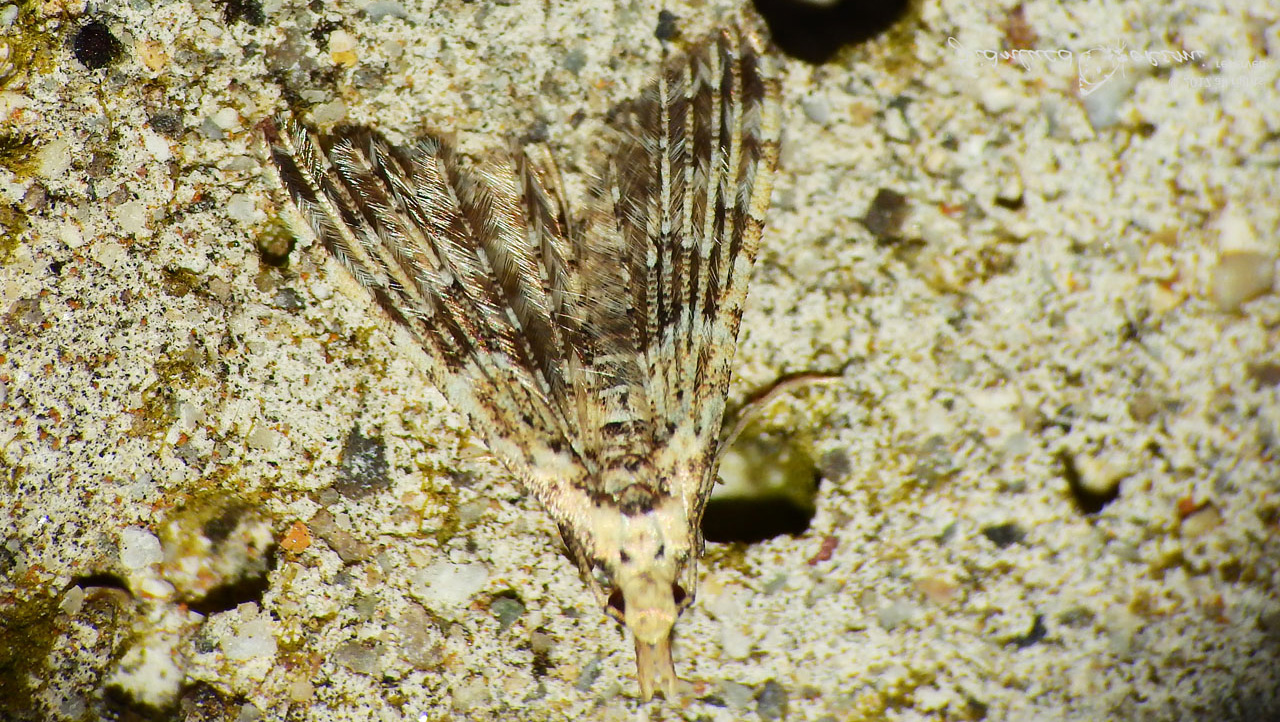Alucitidae: (221, 12, 860, 702)
moth: (223, 14, 862, 704)
